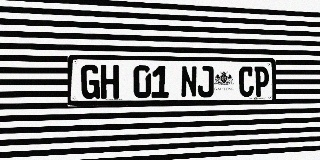0: (133, 65, 151, 98)
1: (151, 65, 169, 98)
C: (239, 66, 254, 97)
G: (81, 65, 100, 99)
H: (100, 65, 119, 99)
J: (198, 66, 214, 97)
N: (181, 66, 197, 98)
P: (254, 66, 269, 97)
